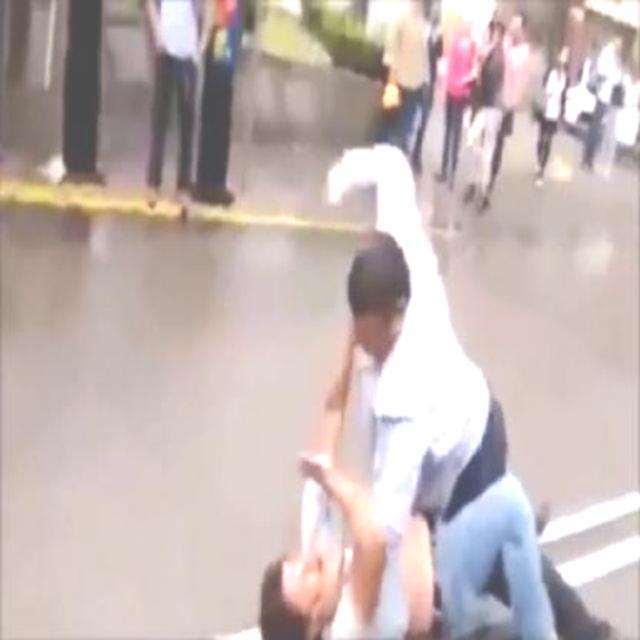fight: (252, 147, 616, 638)
